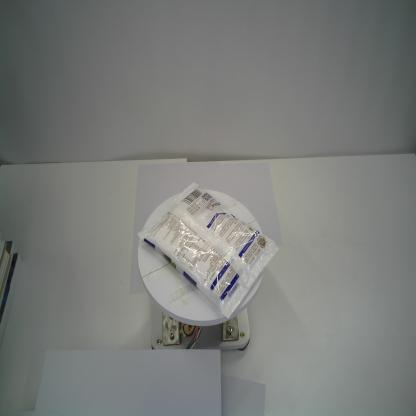Seasoner: (136, 181, 279, 320)
